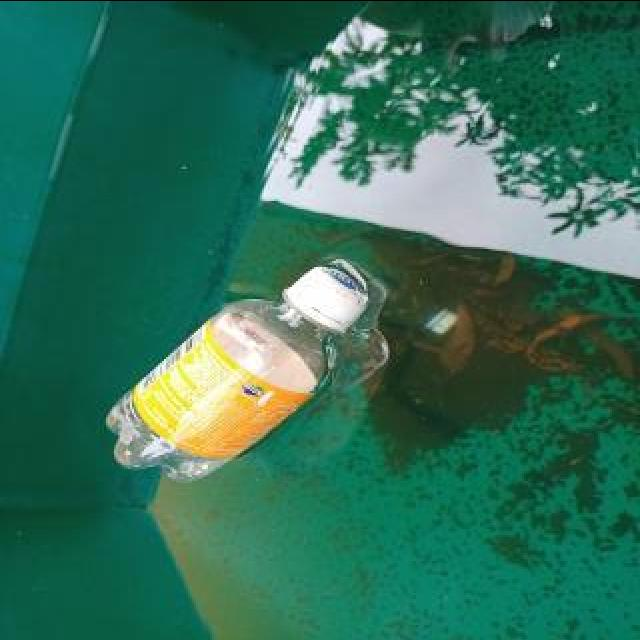Bottle: (94, 251, 373, 495)
